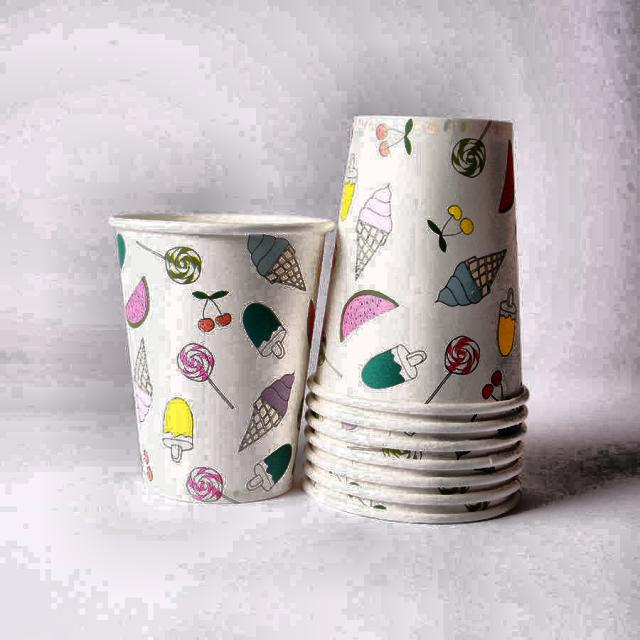Cup: (296, 65, 544, 531), (102, 207, 334, 508)
